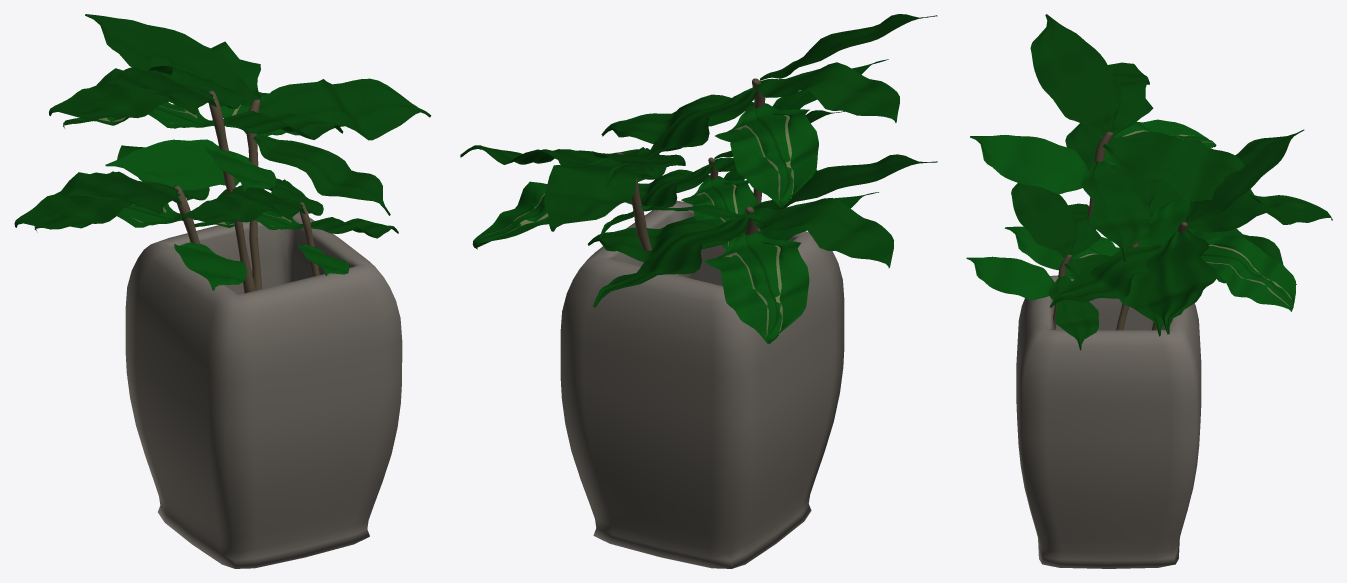
Rendered from plant.fbx.
3 views of the same model, side by side, from view 1: azimuth 30°, elevation 25°; view 2: azimuth 150°, elevation 25°; view 3: azimuth 270°, elevation 25° (orthographic). The views are drawn at different scales.
Visible parts, largest first — view 1: pCylinder10; view 2: pCylinder10; view 3: pCylinder10.
Part boxes in pixels (x1=…): pCylinder10: x1=14, y1=14, x2=431, y2=568; pCylinder10: x1=460, y1=14, x2=937, y2=568; pCylinder10: x1=966, y1=14, x2=1332, y2=568.
Bounding box in the file's own units: 3.77 × 4.58 × 3.34.
